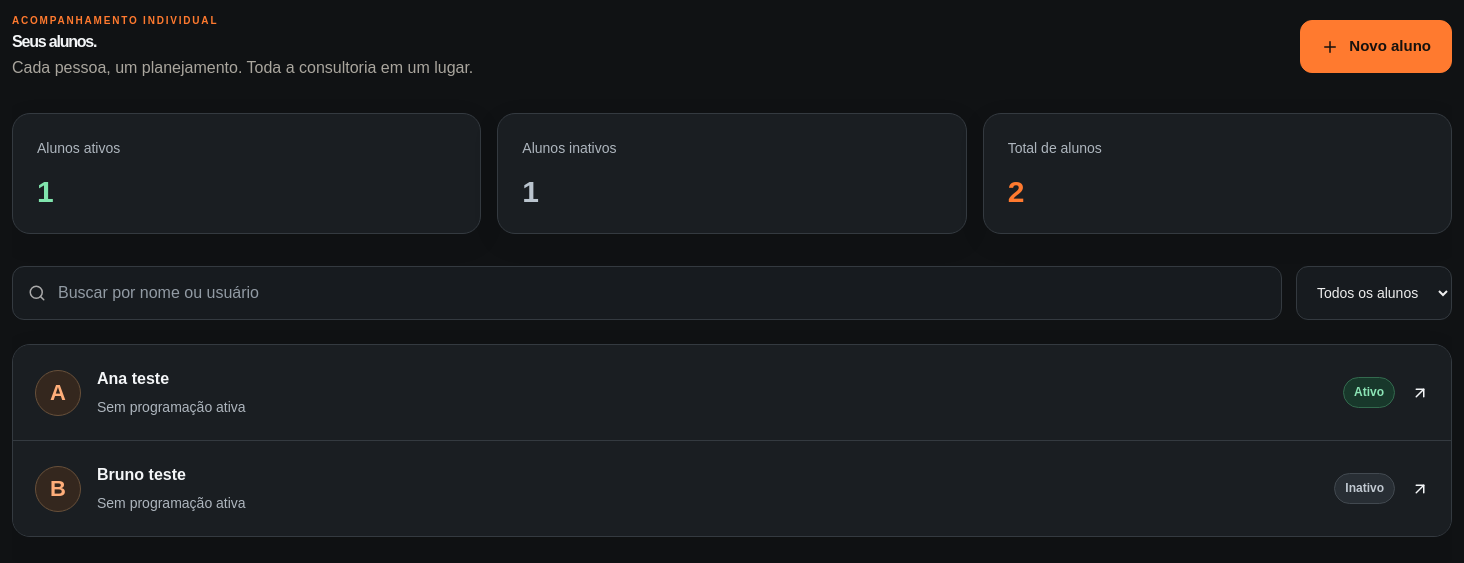
Test: student management UI with mocked service › filters fetched students by name and status
Expected: the text "Ana teste" is shown, [97,370,169,387]
Select "Inativos" in the dropdown named "Filtrar por status": x=1374, y=293 [1296,266,1452,320]
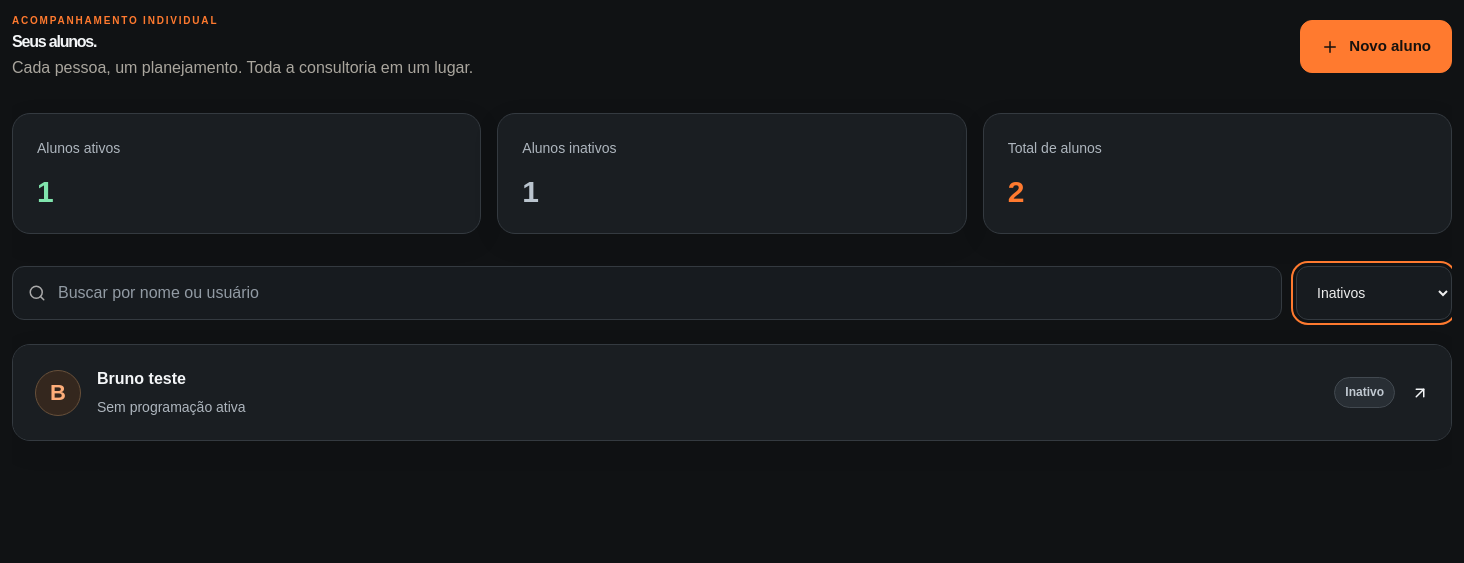
Expected: the text "Bruno teste" is shown, [97,370,186,387]
Result: the button "Ana teste" is gone
In the field named "Buscar aluno por nome ou usuário": x=647, y=293 [12,266,1282,320], type "inexistente"
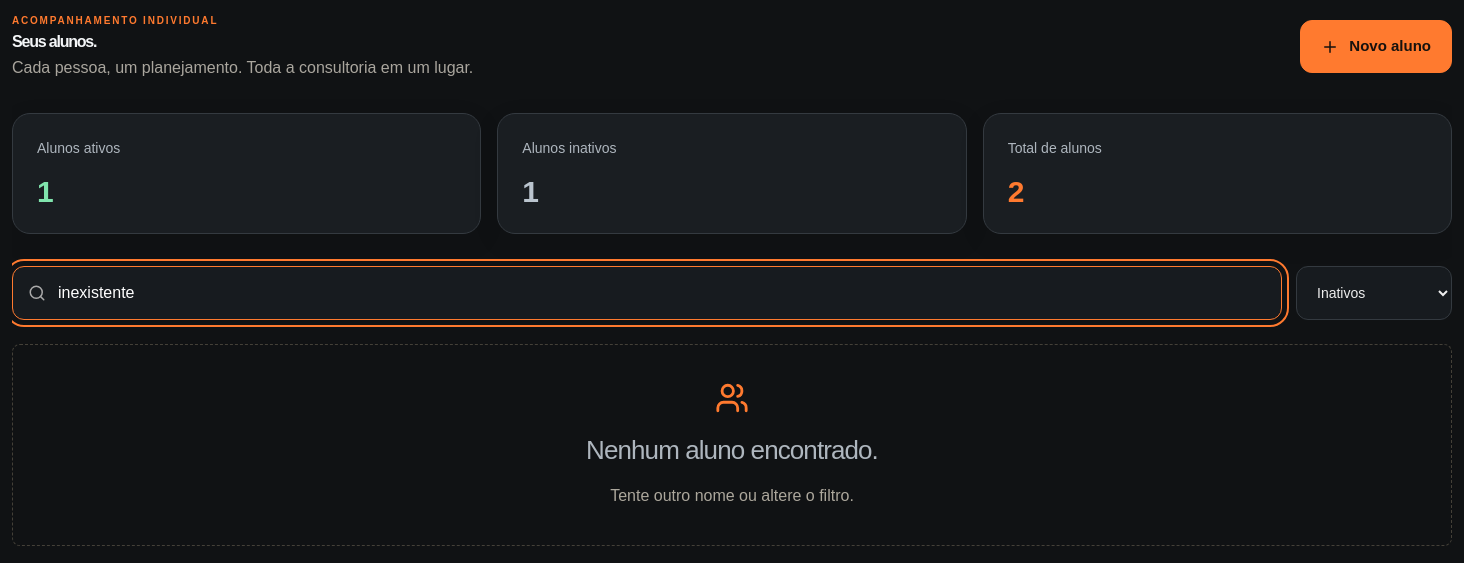
Result: the heading "Nenhum aluno encontrado." is shown at [586,435,878,465]
